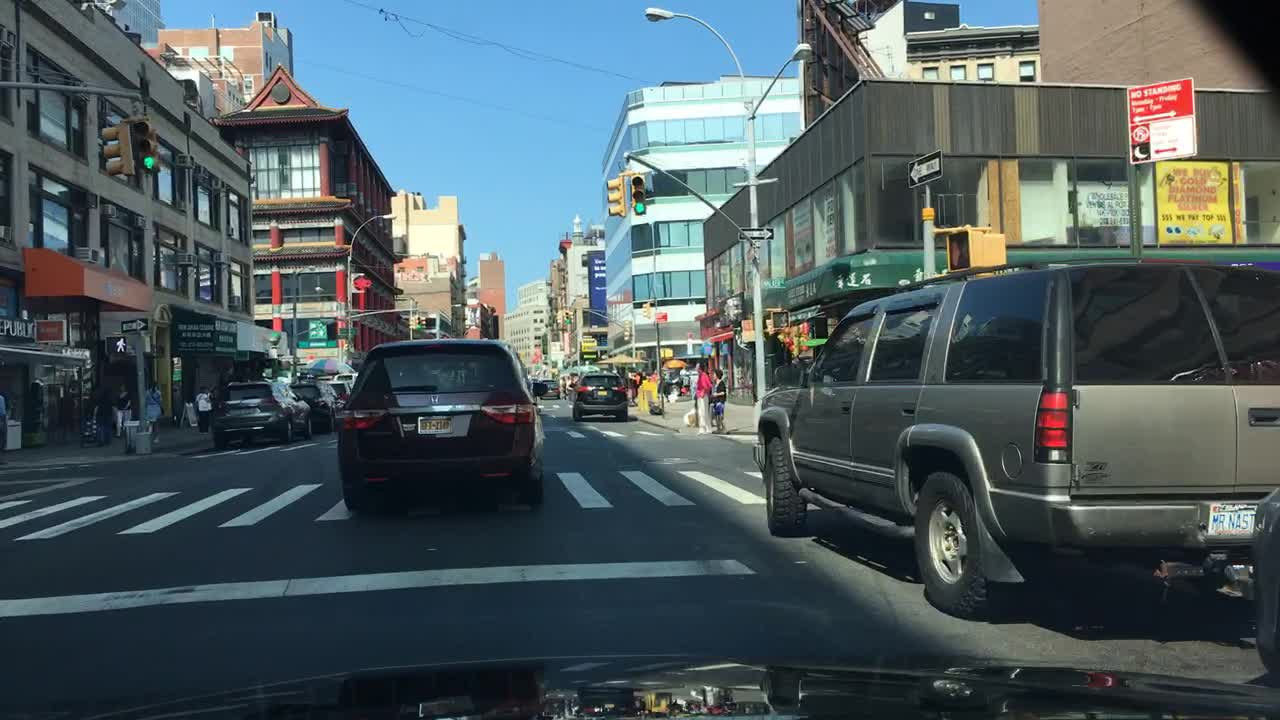car: (751, 260, 1279, 617), (336, 339, 545, 509), (211, 376, 312, 449), (1248, 489, 1279, 677), (287, 374, 339, 442), (568, 369, 631, 423), (324, 376, 351, 405), (536, 378, 560, 401), (334, 373, 359, 390)
person: (705, 366, 730, 437), (145, 380, 165, 445), (111, 381, 131, 435), (44, 381, 60, 447), (57, 388, 74, 447), (192, 386, 212, 435), (692, 361, 712, 401), (0, 395, 10, 467), (656, 376, 671, 400)
traffic light: (941, 228, 1007, 277), (101, 123, 131, 174), (133, 116, 158, 170), (604, 172, 624, 216), (766, 307, 793, 332), (631, 172, 646, 212), (103, 334, 126, 358), (641, 300, 651, 319), (562, 309, 572, 326), (621, 326, 631, 341), (555, 305, 562, 324), (413, 314, 422, 327), (408, 314, 415, 327)
traffic sign: (1124, 76, 1193, 164), (906, 150, 943, 185), (737, 226, 771, 239), (120, 317, 148, 332), (759, 275, 786, 290), (336, 327, 354, 336)
